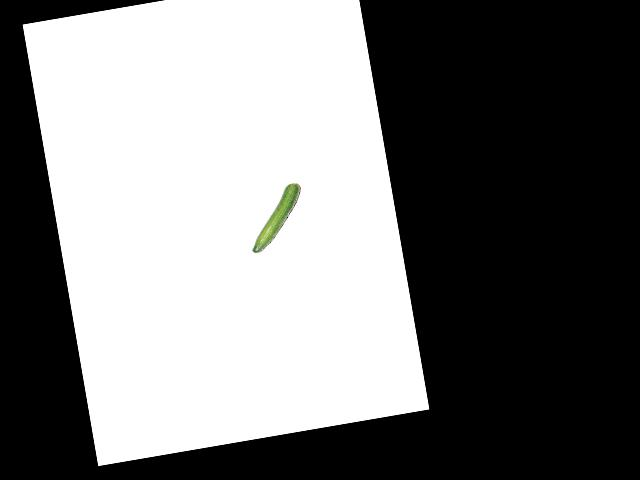cucumber: (242, 181, 310, 253)
